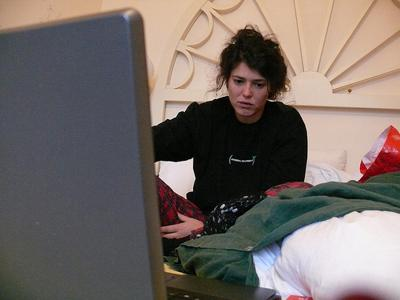person: (150, 26, 310, 242)
